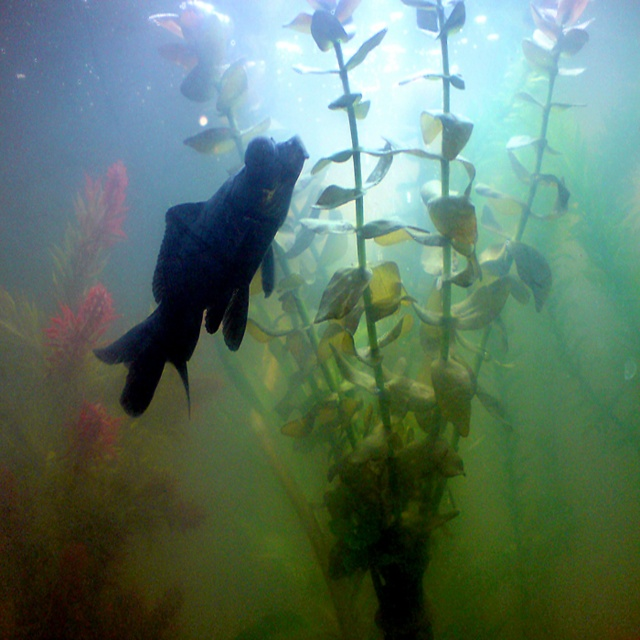Fish: (93, 134, 310, 421)
